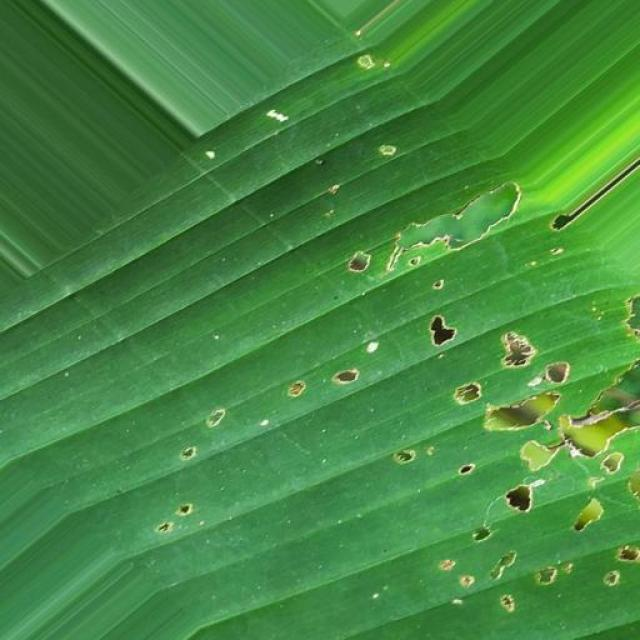Black_rot: (151, 71, 640, 640)
